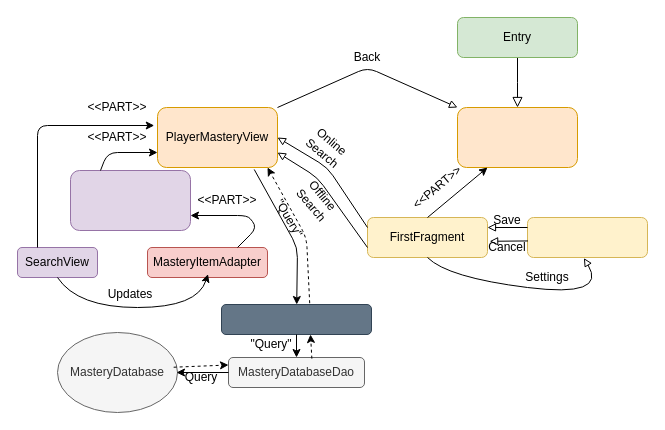
Some shapes in this 665 by 430 pixel diagram are drawn without their labels. Here are the shapes that lost their labels. From the top down, the box of each, then its label:
(456, 106, 578, 168): MainActivity
(70, 170, 190, 230): RecycleView
(526, 216, 648, 258): SecondFragment
(220, 304, 372, 334): MasteryRecordRepository
